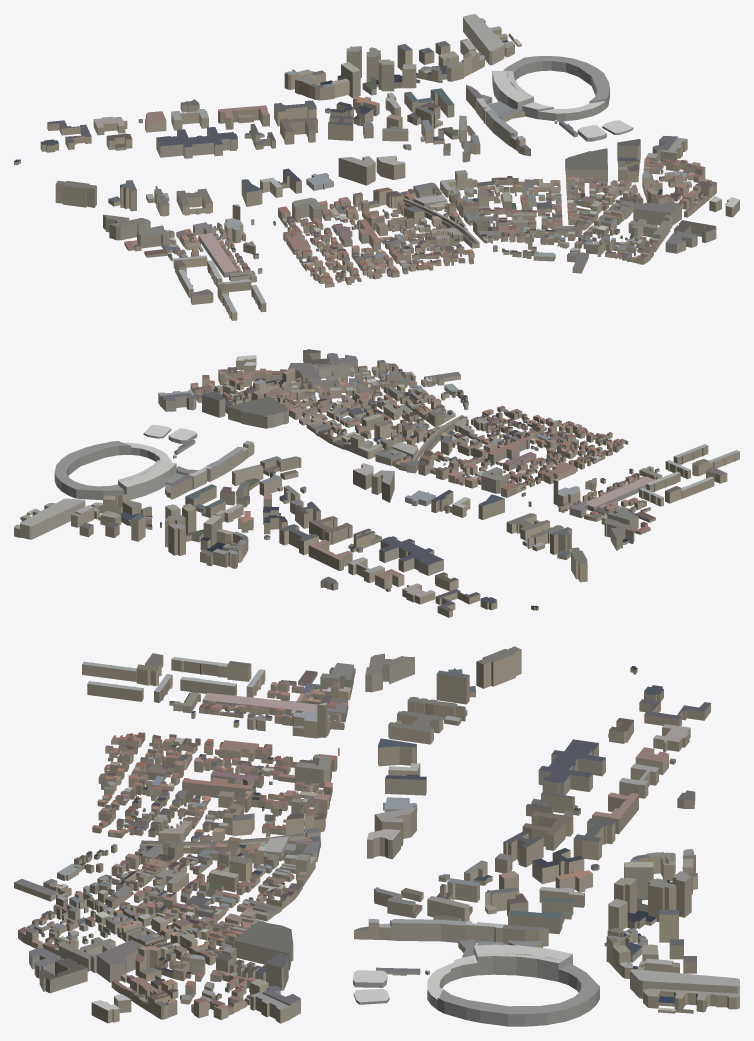
The picture shows the model from 3 angles, top to bottom: view 1: azimuth 30°, elevation 25°; view 2: azimuth 150°, elevation 25°; view 3: azimuth 270°, elevation 25°; orthographic projection. The views are drawn at different scales.
Visible parts, largest first — view 1: tuile; view 2: tuile; view 3: tuile.
Boxes of the visible parts, bbox=[...] form: tuile: bbox=[14, 14, 739, 320]; tuile: bbox=[14, 349, 739, 617]; tuile: bbox=[14, 646, 739, 1026].
Size of the model in its own units: 1053 by 81.89 by 938.
